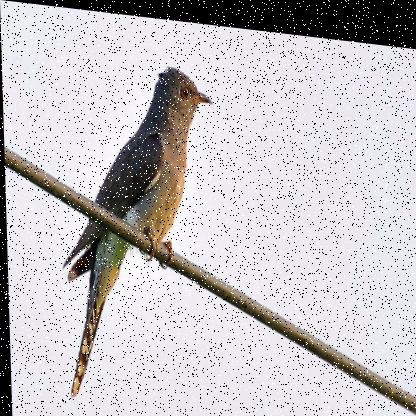Burung: (55, 50, 220, 409)
